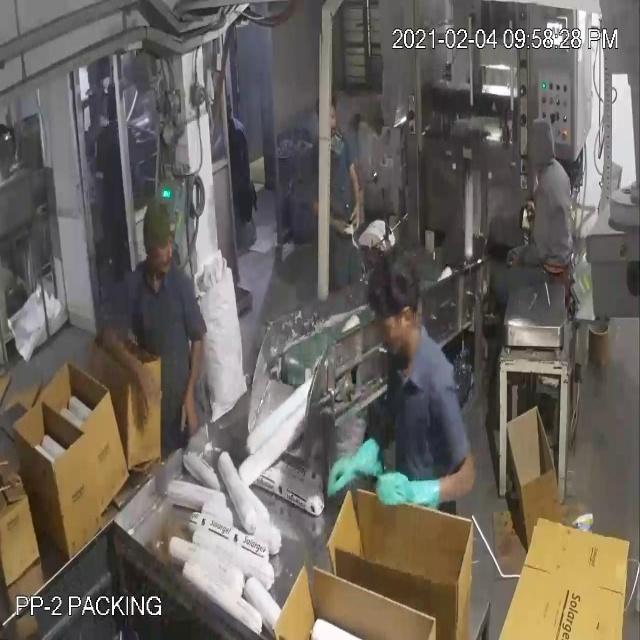Guantes: (371, 460, 488, 523), (324, 428, 397, 508)
Sin_guantes: (99, 312, 164, 437), (177, 317, 208, 434), (310, 193, 349, 252), (344, 153, 367, 248)
